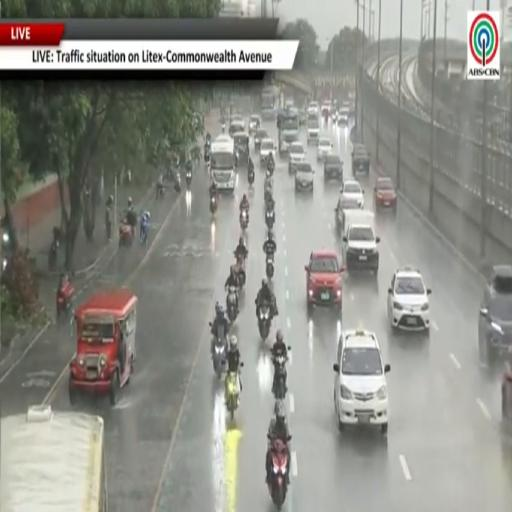bus: (0, 406, 107, 511), (210, 135, 235, 191), (261, 86, 279, 120)
car: (334, 329, 390, 435), (478, 265, 511, 362), (387, 267, 431, 331), (305, 250, 345, 314), (343, 222, 380, 275), (335, 189, 360, 234), (374, 178, 396, 212), (341, 180, 363, 209), (502, 357, 511, 424), (294, 162, 314, 191), (352, 143, 370, 175), (289, 141, 305, 173), (324, 155, 342, 182), (259, 138, 276, 164), (317, 137, 332, 162), (307, 117, 320, 145), (255, 128, 269, 151), (230, 114, 245, 131), (229, 120, 244, 136), (249, 115, 261, 134), (338, 107, 349, 124), (321, 101, 331, 116), (308, 102, 318, 115), (300, 109, 307, 125), (331, 108, 338, 122), (308, 112, 318, 121), (285, 99, 294, 108)
jeepney: (69, 288, 137, 405)
motorcycle: (268, 437, 288, 510), (212, 326, 227, 378), (225, 372, 239, 420), (56, 283, 74, 318), (273, 355, 287, 399), (502, 364, 511, 425), (258, 303, 271, 341), (227, 286, 238, 324), (119, 222, 134, 247), (236, 254, 246, 289), (48, 239, 59, 270), (265, 253, 275, 279), (139, 221, 149, 245), (239, 208, 249, 230), (265, 208, 275, 230), (267, 156, 275, 175), (174, 173, 181, 194), (156, 184, 165, 200), (264, 185, 272, 202), (210, 197, 217, 215), (248, 168, 254, 186), (186, 171, 191, 189), (206, 159, 211, 173), (324, 110, 329, 122)
truck: (277, 108, 299, 154)
